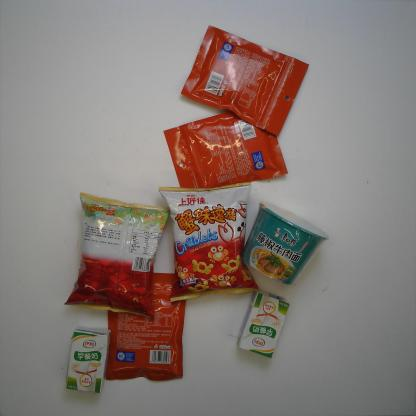Dried Fruit: (177, 23, 310, 137), (163, 100, 289, 200), (102, 271, 188, 382)
Instant Noodles: (239, 198, 332, 288)
Milk: (234, 287, 292, 360), (62, 323, 113, 395)
Puffed Food: (60, 191, 173, 324), (159, 178, 263, 306)
